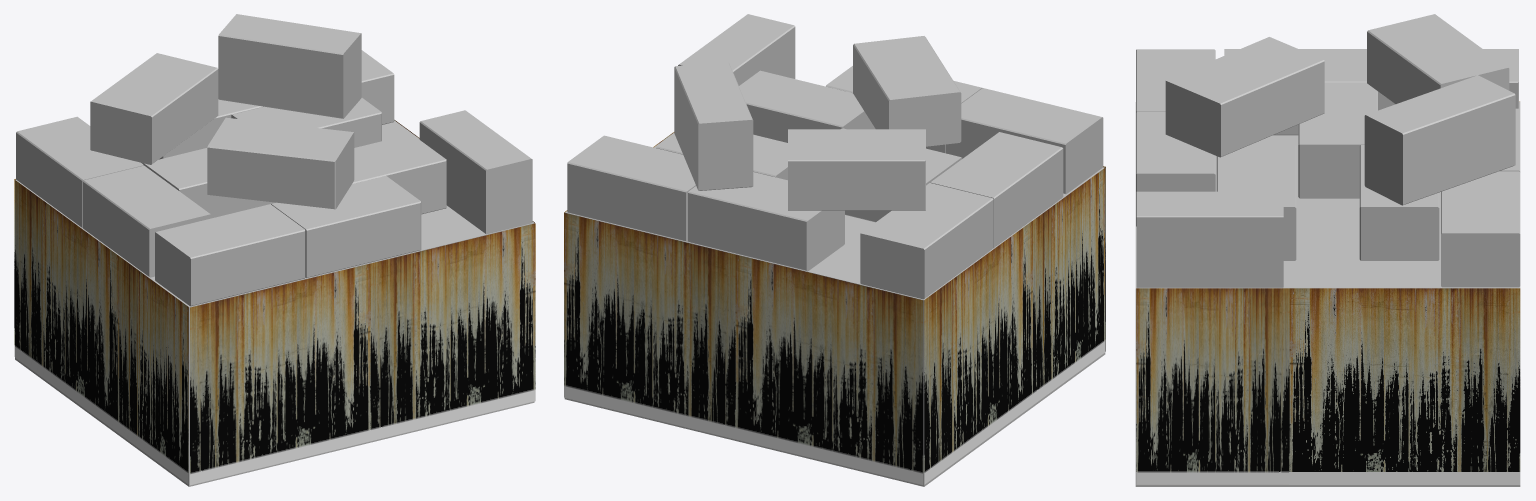
File: BrickBox.FBX
The picture shows the model from 3 angles, left to right: view 1: azimuth 30°, elevation 25°; view 2: azimuth 150°, elevation 25°; view 3: azimuth 270°, elevation 25°; orthographic projection. The views are drawn at different scales.
Visible parts, largest first — view 1: BrickBox; view 2: BrickBox; view 3: BrickBox.
Boxes of the visible parts, x1,y1,x2,y2 form: BrickBox: [14, 14, 535, 486]; BrickBox: [564, 14, 1105, 486]; BrickBox: [1135, 14, 1520, 486].
Size of the model in its own units: 161 by 131 by 141.
